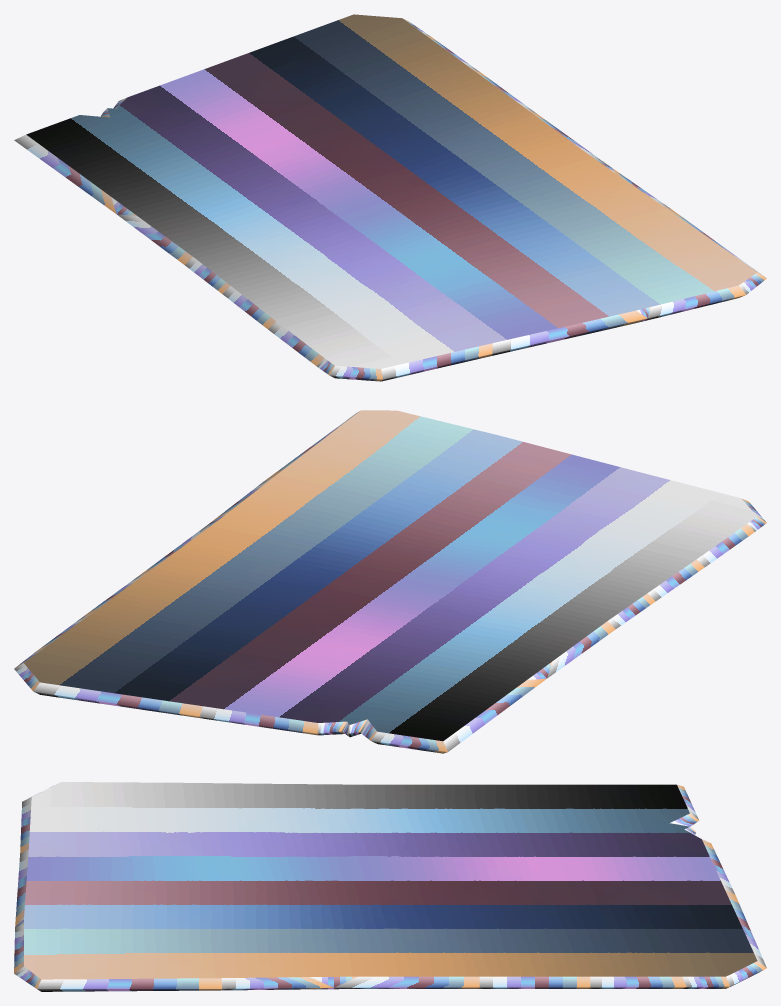
Rendered from P_AP23WallPosterConch.glb.
3 renders of one model, top to bottom at view 1: azimuth 30°, elevation 25°; view 2: azimuth 150°, elevation 25°; view 3: azimuth 270°, elevation 25°, orthographic.
Visible parts, largest first — view 1: P_AP23WallPosterConch; view 2: P_AP23WallPosterConch; view 3: P_AP23WallPosterConch.
Boxes of the visible parts, x1,y1,x2,y2 form: P_AP23WallPosterConch: (14, 14, 766, 381); P_AP23WallPosterConch: (14, 410, 766, 753); P_AP23WallPosterConch: (14, 782, 766, 991).
Size of the model in its own units: 0.8912 by 0.025 by 1.39.
1 material, 1 textured.
